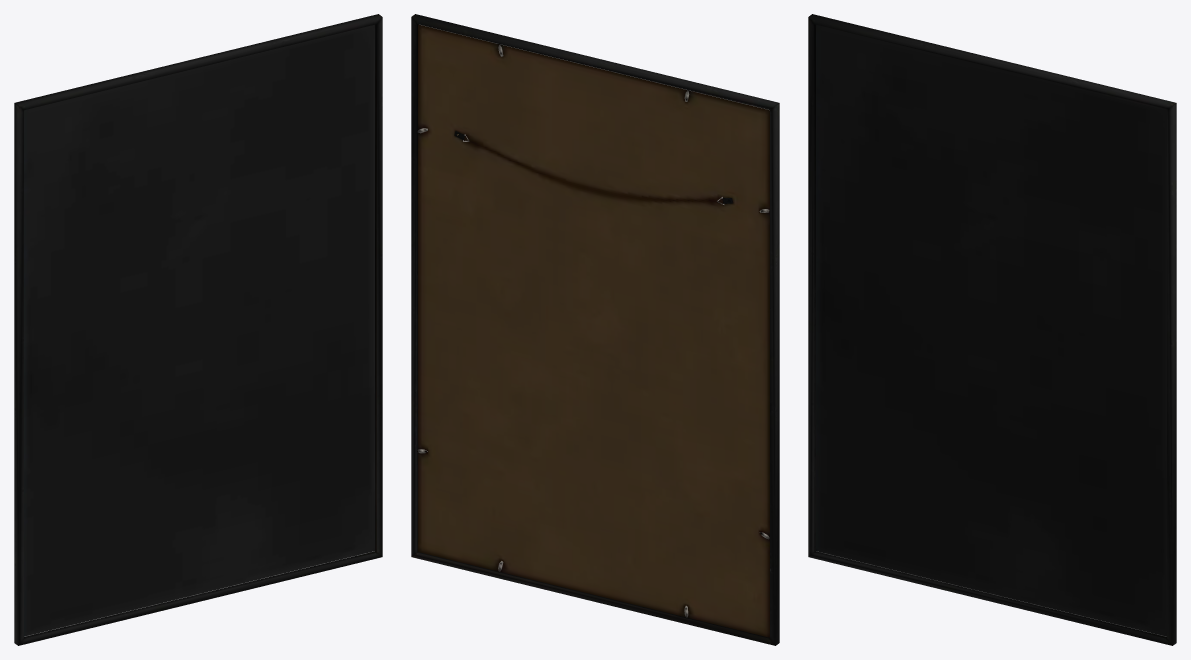
Rendered from hanging_picture_frame_01.glb.
3 renders of one model, left to right at view 1: azimuth 30°, elevation 25°; view 2: azimuth 150°, elevation 25°; view 3: azimuth 330°, elevation 25°, orthographic.
Visible parts, largest first — view 1: hanging_picture_frame_01; view 2: hanging_picture_frame_01; view 3: hanging_picture_frame_01.
Part boxes in pixels (left/top/right/bottom): hanging_picture_frame_01: left=14, top=14, right=382, bottom=645; hanging_picture_frame_01: left=411, top=14, right=779, bottom=645; hanging_picture_frame_01: left=808, top=14, right=1176, bottom=645.
Bounding box in the file's own units: 0.5917 × 0.8387 × 0.0127.
Materials: 3 (3 with a texture image).
